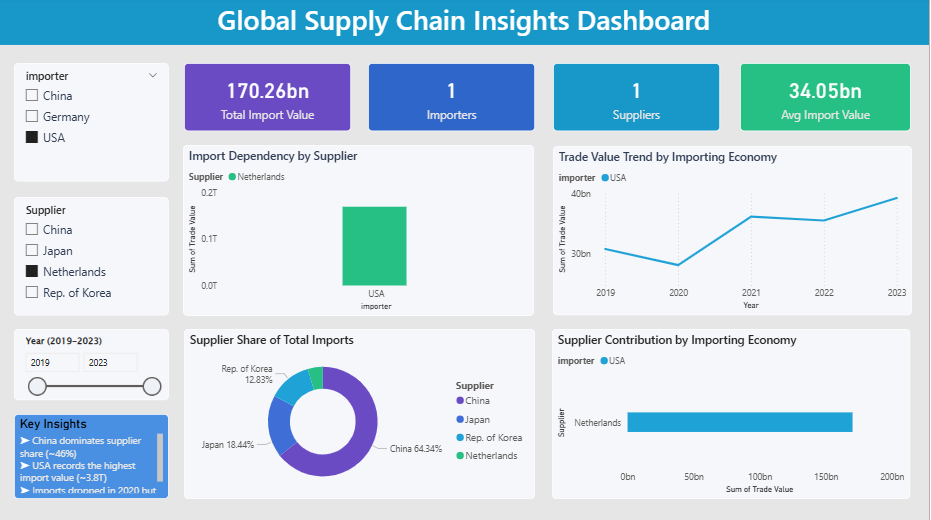

Layout of this report page (visuals, bound fields, positions):
{"tool":"powerbi","page":{"name":"Page 1","canvas":[1280,720],"ordinal":0},"visuals":[{"type":"clusteredBarChart","title":"Supplier Contribution by Importing Economy","fields":{"Category":["Sheet1.Supplier"],"Y":["Sum(Sheet1.Trade Value)"],"Series":["Sheet1.importer"]},"box":[761.1,456.9,492.7,234],"z":0},{"type":"lineChart","title":"Trade Value Trend by Importing Economy","fields":{"Category":["Sheet1.Year"],"Y":["Sum(Sheet1.Trade Value)"],"Series":["Sheet1.importer"]},"box":[762.5,205.1,494.1,232.6],"z":1000},{"type":"donutChart","title":"Supplier Share of Total Imports","fields":{"Category":["Sheet1.Supplier"],"Y":["Sum(Sheet1.Trade Value)"]},"box":[254.6,456.9,483.1,234],"z":2000},{"type":"lineStackedColumnComboChart","title":"Import Dependency by Supplier","fields":{"Category":["Sheet1.importer"],"Y":["Sum(Sheet1.Trade Value)"],"Series":["Sheet1.Supplier"]},"box":[253.2,203.7,483.1,235.4],"z":3000},{"type":"slicer","fields":{"Values":["Sheet1.importer"]},"box":[21.2,91.2,212.5,162.5],"z":4000},{"type":"slicer","fields":{"Values":["Sheet1.Supplier"]},"box":[21.2,275,212.5,162.5],"z":5000},{"type":"slicer","fields":{"Values":["Sheet1.Year"]},"box":[20.6,456.9,213.3,97.7],"z":6000},{"type":"card","fields":{"Values":["Sum(Sheet1.Trade Value)"]},"box":[254.6,90.8,229.8,93.6],"z":7000},{"type":"card","fields":{"Values":["Sheet1.Avg Import Value"]},"box":[1019.9,90.8,235.4,93.6],"z":8000},{"type":"card","fields":{"Values":["Sheet1.Suppliers"]},"box":[762.5,90.8,229.8,93.6],"z":9000},{"type":"card","fields":{"Values":["Sheet1.Importers"]},"box":[507.9,90.8,229.8,93.6],"z":10000},{"type":"textbox","box":[0,0,1280,66.1],"z":11000},{"type":"textbox","title":"Key Insights","box":[20.6,573.9,213.3,117],"z":12000}]}

Visuals, with their boxes in screenshot pixels (x1, y1, x2, y2), scaled from the page's 1280x720 canvas onto the 931x520 screenshot:
"Supplier Contribution by Importing Economy" clusteredBarChart: BBox(554, 330, 912, 499)
"Trade Value Trend by Importing Economy" lineChart: BBox(555, 148, 914, 316)
"Supplier Share of Total Imports" donutChart: BBox(185, 330, 537, 499)
"Import Dependency by Supplier" lineStackedColumnComboChart: BBox(184, 147, 536, 317)
slicer - Sheet1.importer: BBox(15, 66, 170, 183)
slicer - Sheet1.Supplier: BBox(15, 199, 170, 316)
slicer - Sheet1.Year: BBox(15, 330, 170, 401)
card - Sum(Sheet1.Trade Value): BBox(185, 66, 352, 133)
card - Sheet1.Avg Import Value: BBox(742, 66, 913, 133)
card - Sheet1.Suppliers: BBox(555, 66, 722, 133)
card - Sheet1.Importers: BBox(369, 66, 537, 133)
textbox: BBox(0, 0, 930, 48)
"Key Insights" textbox: BBox(15, 414, 170, 499)
